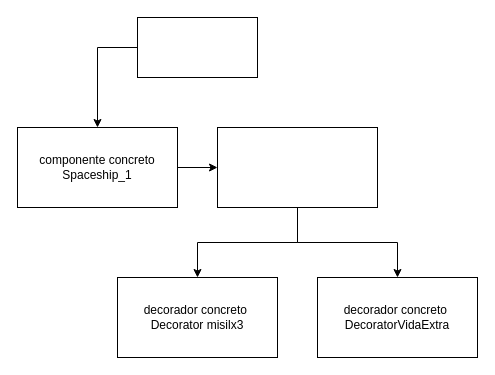
Image size: 495x375. Some labels were removed from this diagram. The shapes that lost their labels are listed below. From the top down, each one's centre as x and y in pixels, then its label:
At (x=197, y=47): "componente principal personaje_base".
At (x=297, y=167): "decorador abstracto DecoratorSpaceship".
